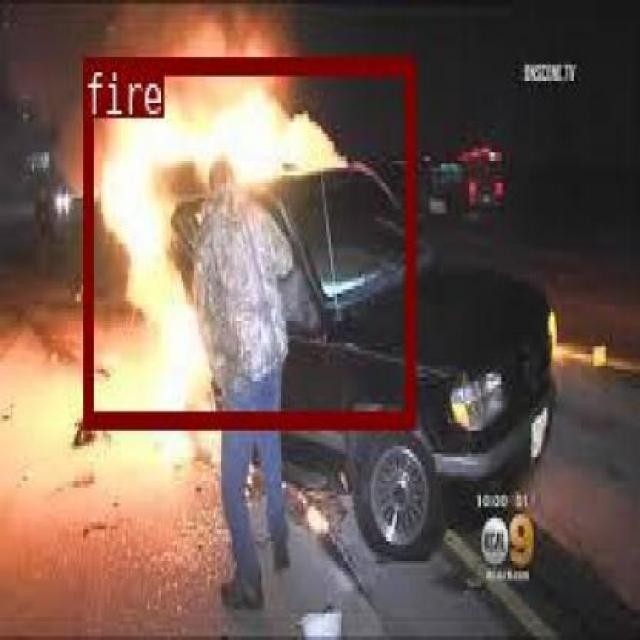Fire: (80, 56, 413, 424)
